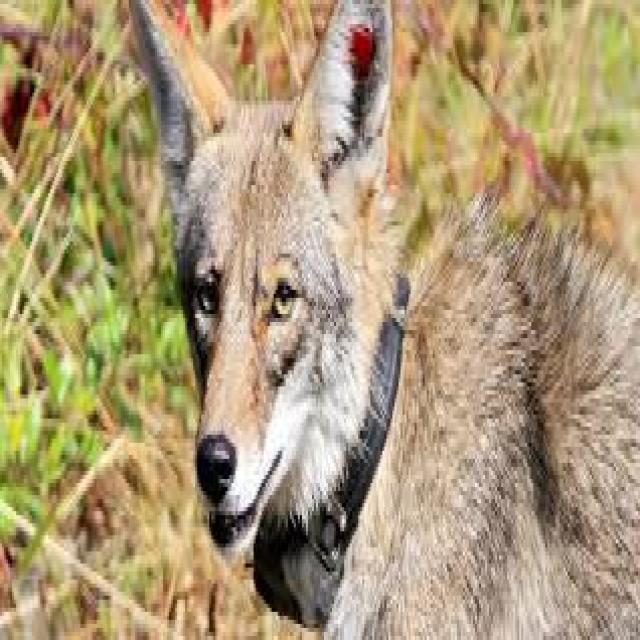Coyote: (123, 0, 640, 640)
